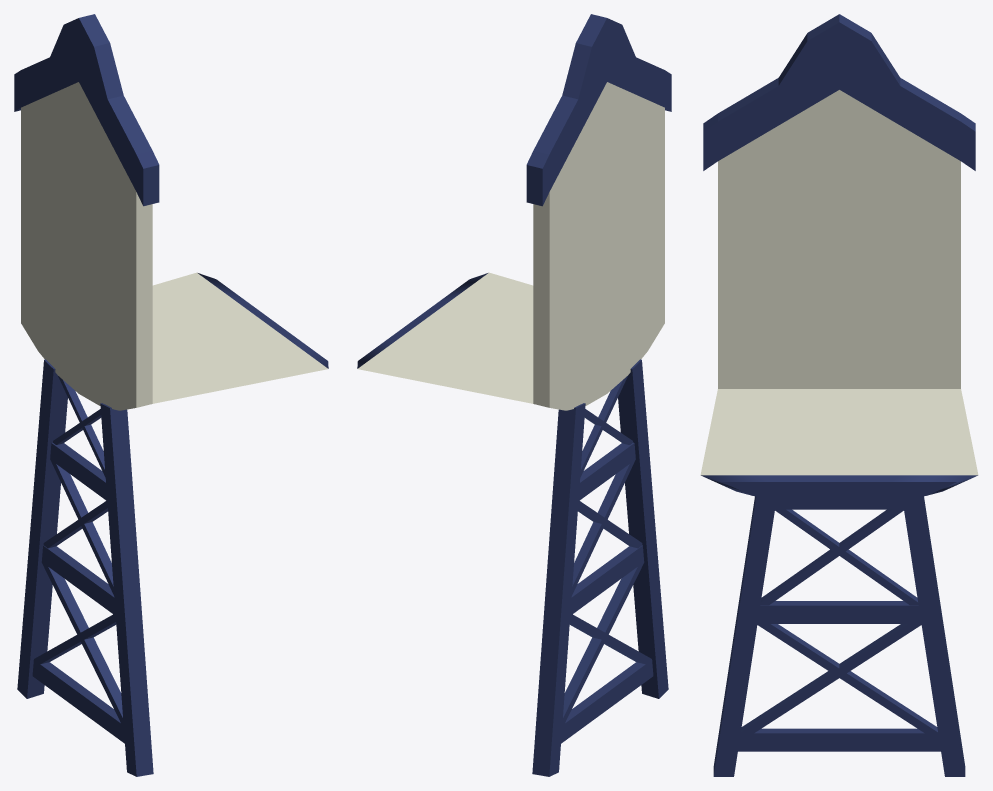
The model's file is water tower1.fbx.
3 views of the same model, side by side, from view 1: azimuth 30°, elevation 25°; view 2: azimuth 150°, elevation 25°; view 3: azimuth 270°, elevation 25° (orthographic). The views are drawn at different scales.
Parts seen in each view (by area): view 1: Cylinder; view 2: Cylinder; view 3: Cylinder.
Boxes of the visible parts, bbox=[...] form: Cylinder: bbox=[14, 14, 328, 776]; Cylinder: bbox=[357, 14, 671, 776]; Cylinder: bbox=[700, 14, 978, 776].
Size of the model in its own units: 1159 by 4068 by 1355.
